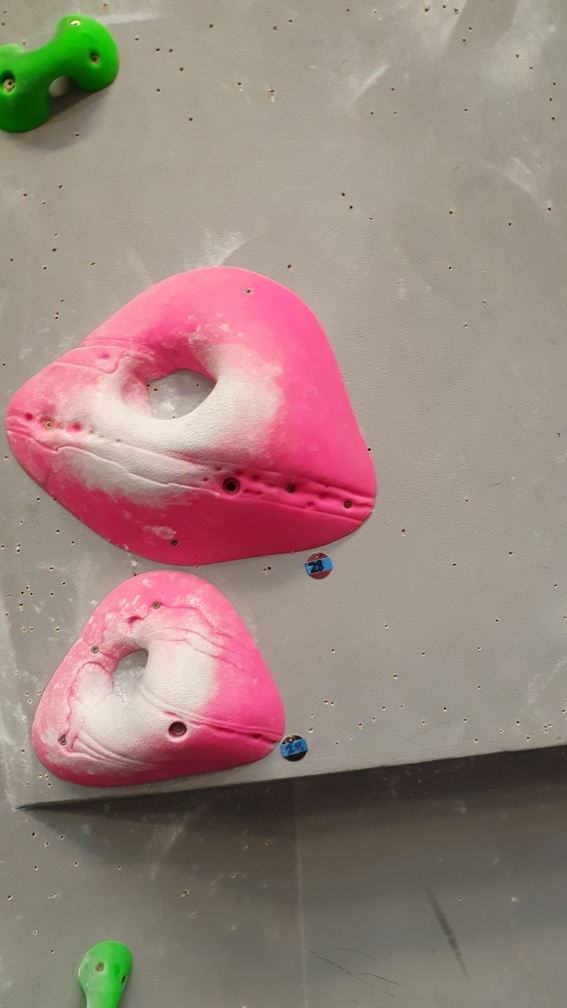Hand Start: (277, 733, 312, 767), (303, 554, 338, 582)
Pocket: (10, 267, 379, 563), (30, 577, 291, 790)
